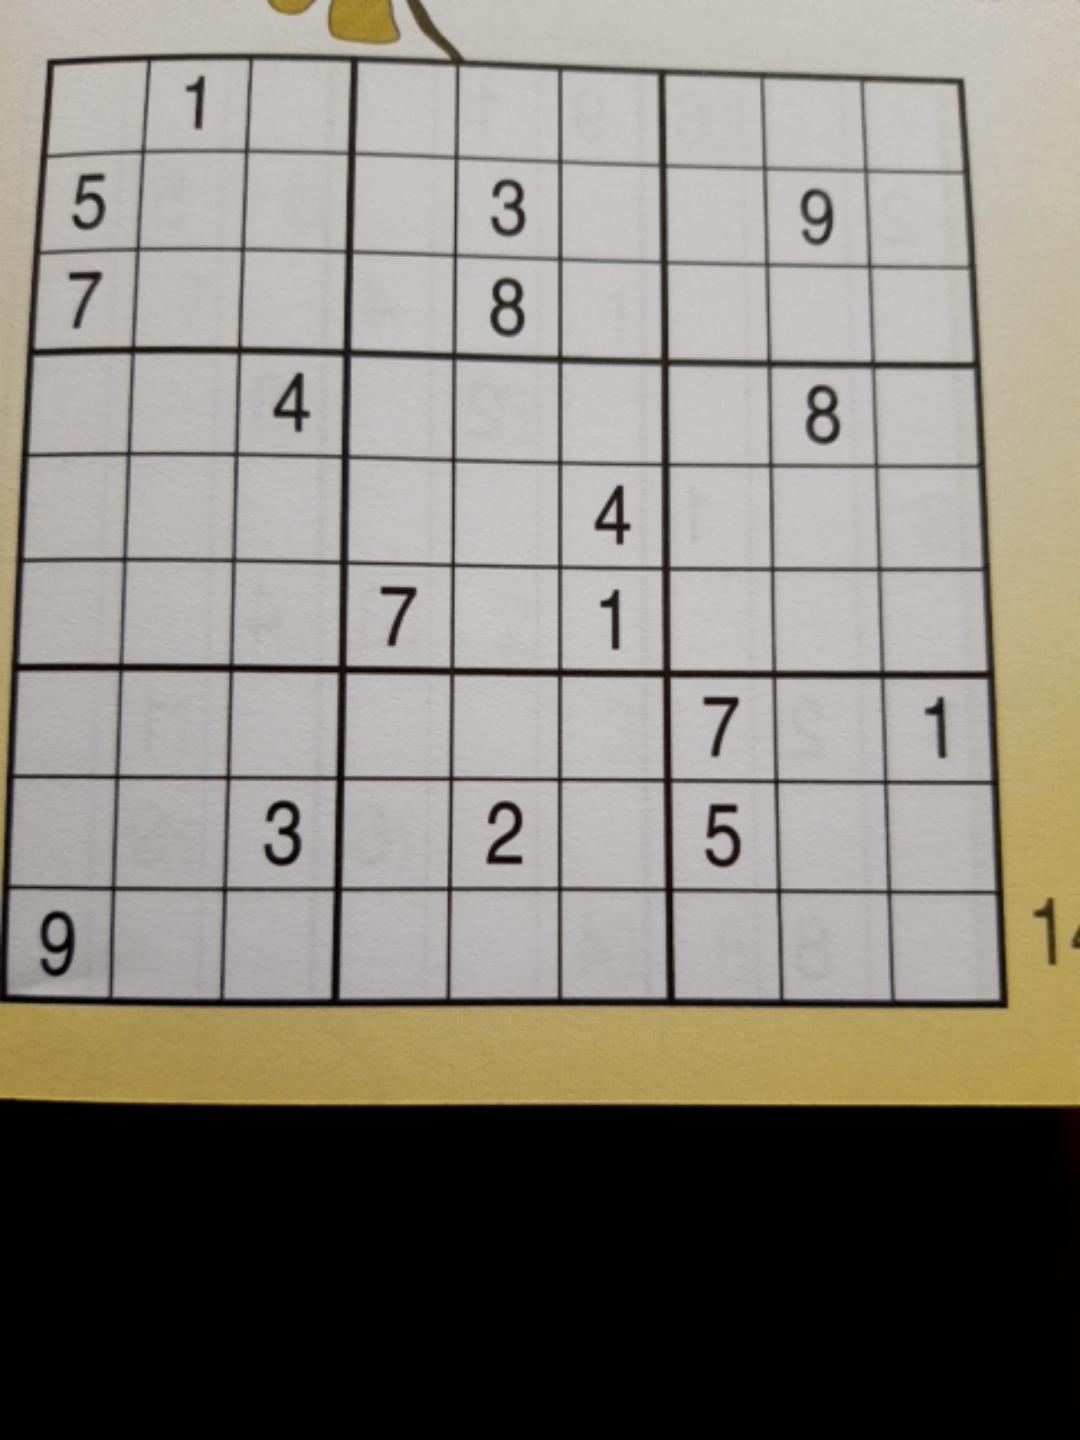sudoku: (15, 54, 1005, 1010)
